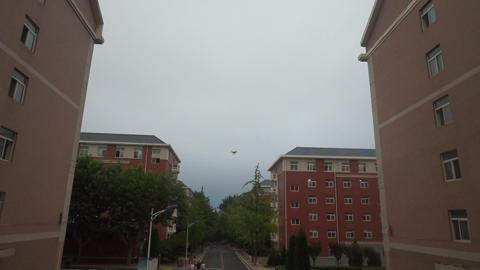UAV: (230, 151, 238, 154)
